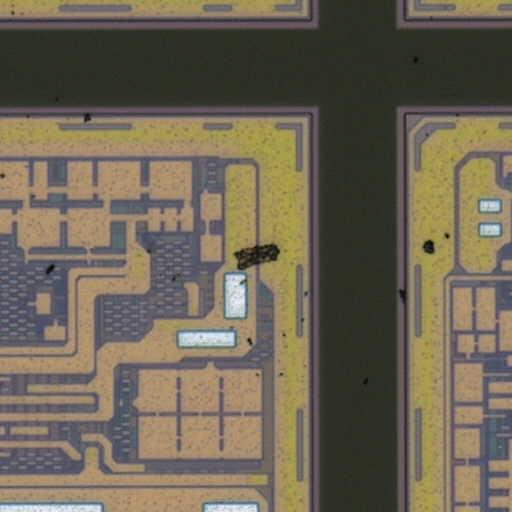PO CONTAMINATION: (1, 1, 468, 394)
